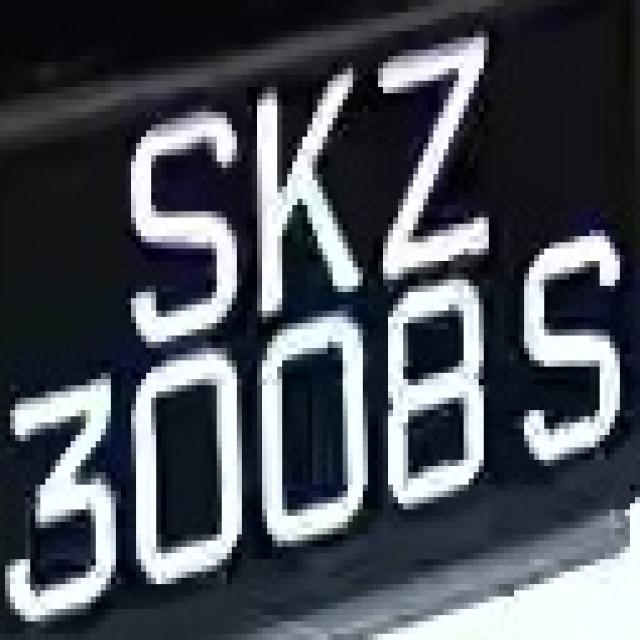0: (101, 336, 257, 596), (252, 310, 383, 572)
3: (15, 348, 126, 640)
8: (383, 273, 504, 522)
K: (242, 87, 383, 317)
R: (504, 223, 630, 460)
S: (116, 81, 237, 342)
Z: (363, 44, 514, 292)
